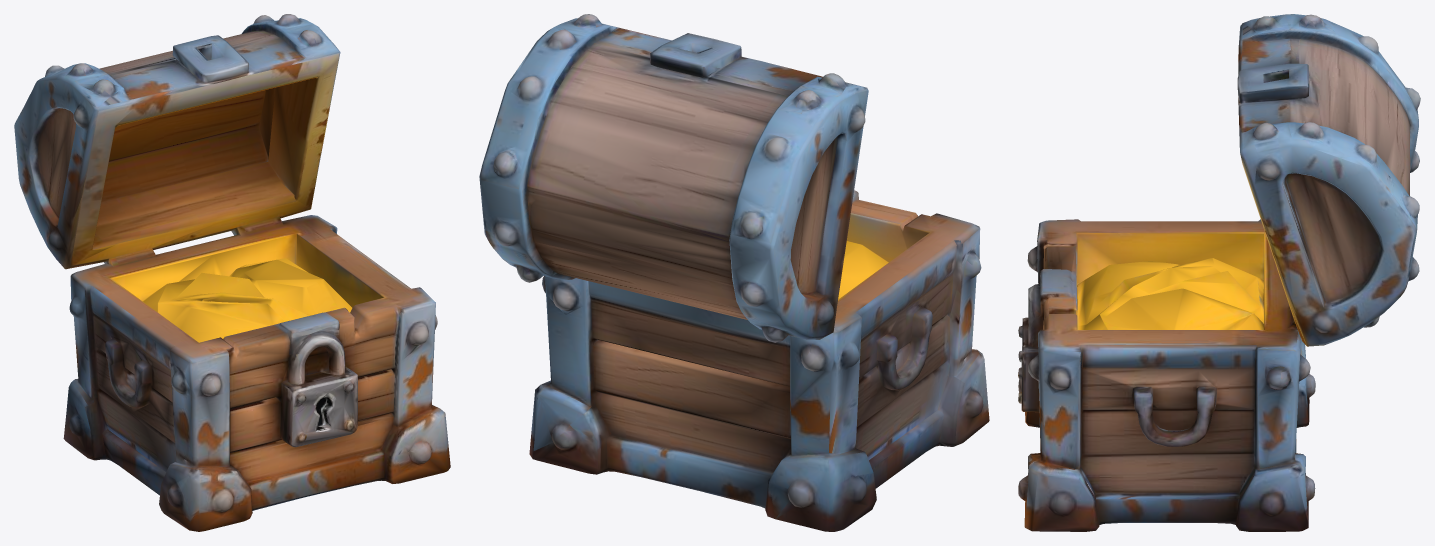
Rendered from chest_2.glb.
The picture shows the model from 3 angles, left to right: view 1: azimuth 30°, elevation 25°; view 2: azimuth 150°, elevation 25°; view 3: azimuth 270°, elevation 25°; orthographic projection. The views are drawn at different scales.
Visible parts, largest first — view 1: chest_2; view 2: chest_2; view 3: chest_2.
Boxes of the visible parts, x1,y1,x2,y2 form: chest_2: (14, 14, 450, 531); chest_2: (479, 14, 989, 531); chest_2: (1018, 14, 1420, 531).
Size of the model in its own units: 0.4179 by 0.5392 by 0.5018.
1 material, 1 textured.
